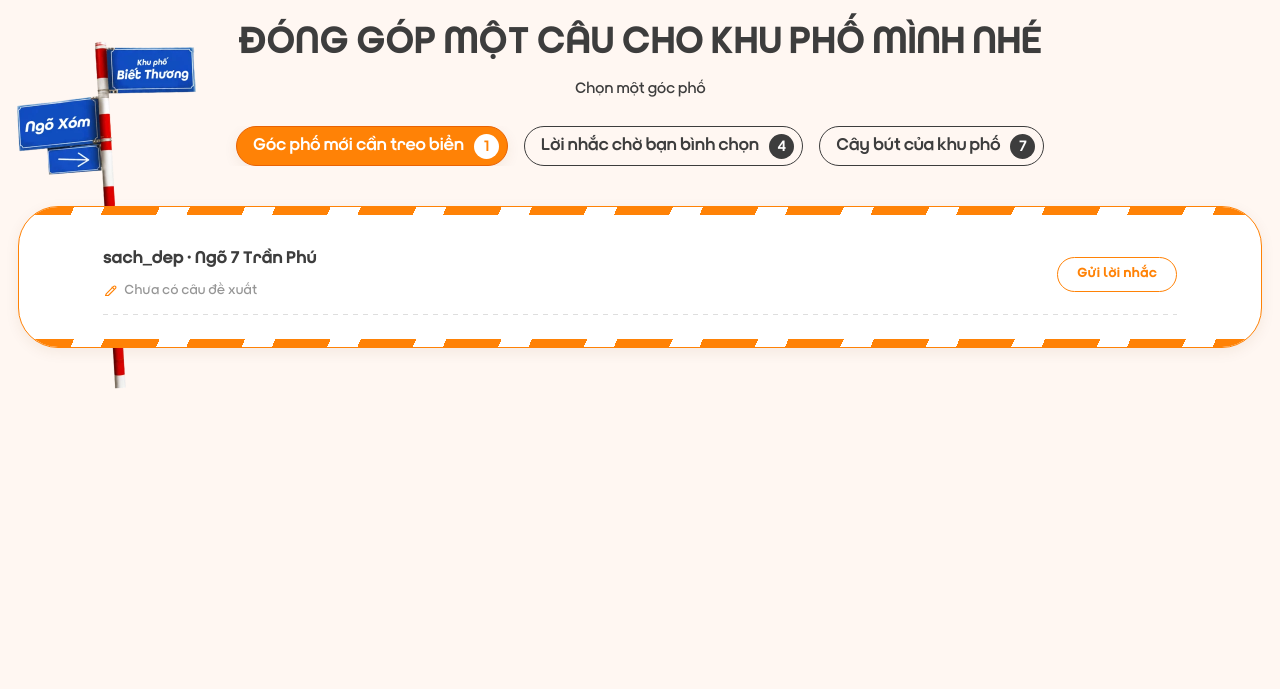
Test: IssueBoard · B4/Q7 — tab 3 'Cây bút của khu phố' › huy hiệu hạng: nền GRADIENT mờ dần (TOP1 xanh · TOP2 cam), đếm tiếp sang trang sau
Click the text "Cây bút của khu phố" at (918, 146), box [836,132,1000,160]
(page scrolled)
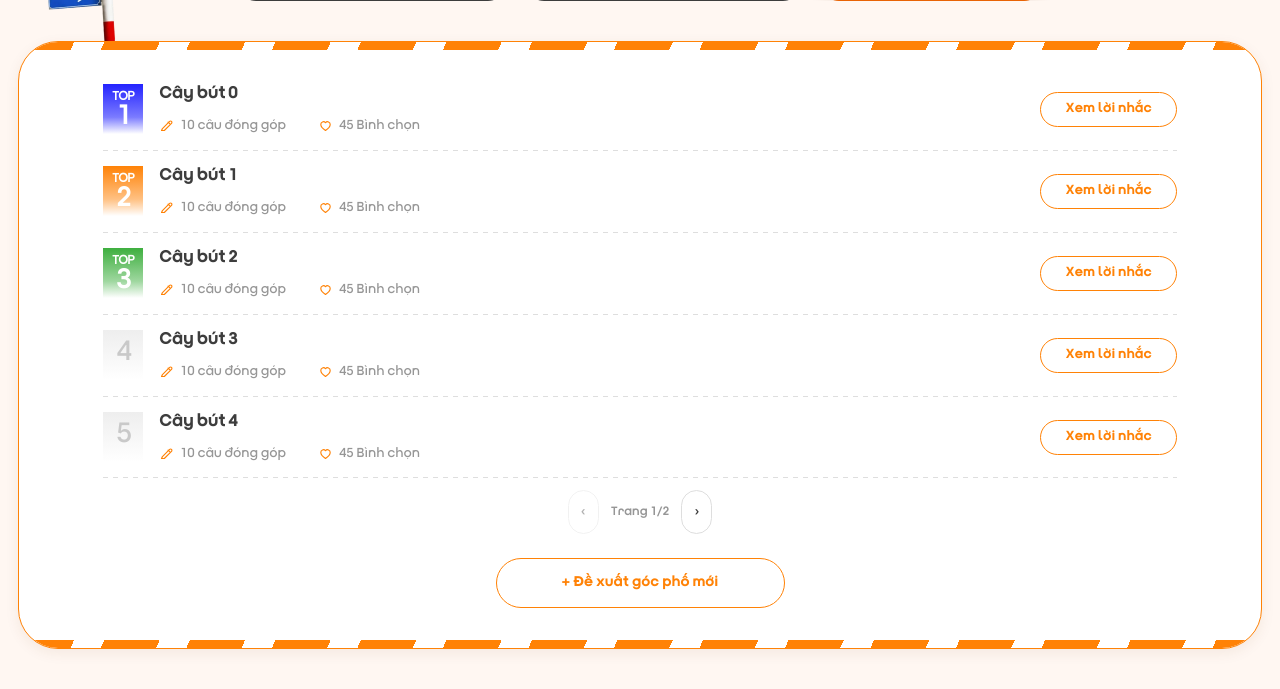
Click the button "›" at (697, 512), box [681,490,712,534]
(page scrolled)
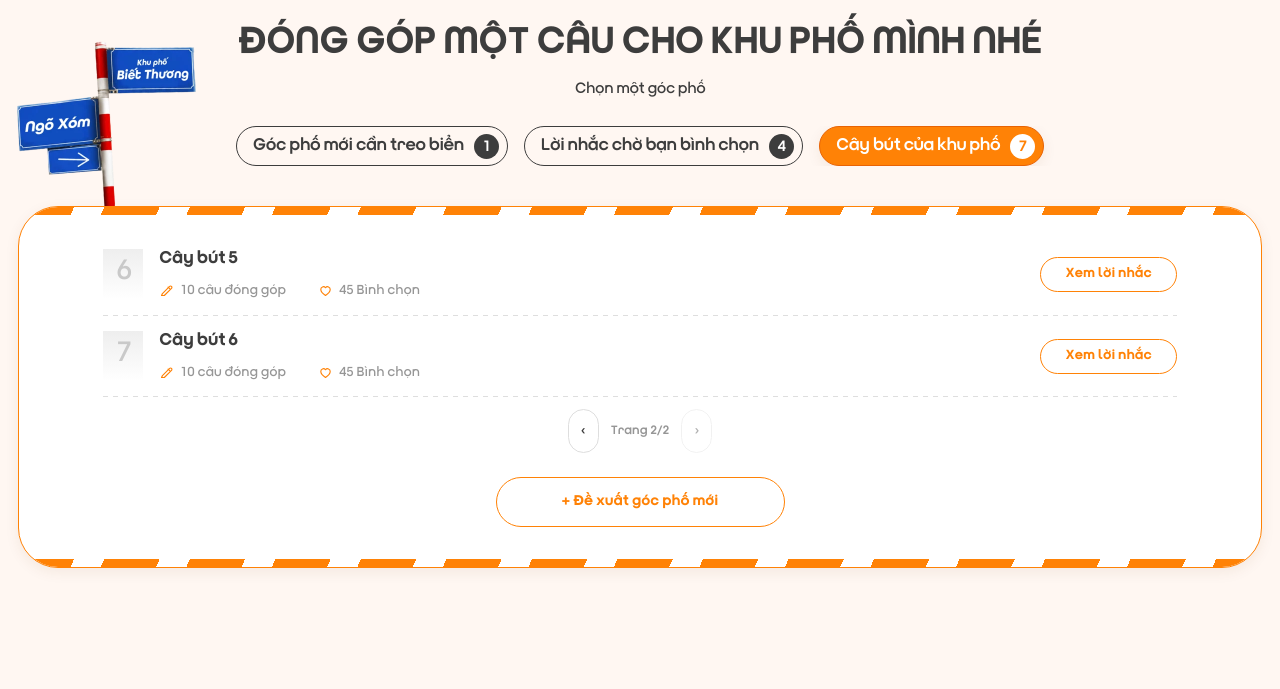
Expected: the text "Cây bút 5" is shown, [159,249,238,268]
Expected: the text "6" is shown, [116,256,130,287]
